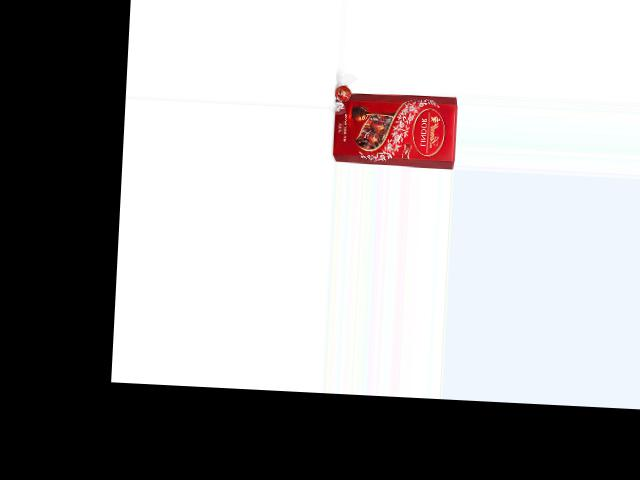chocolate: (332, 83, 458, 168)
